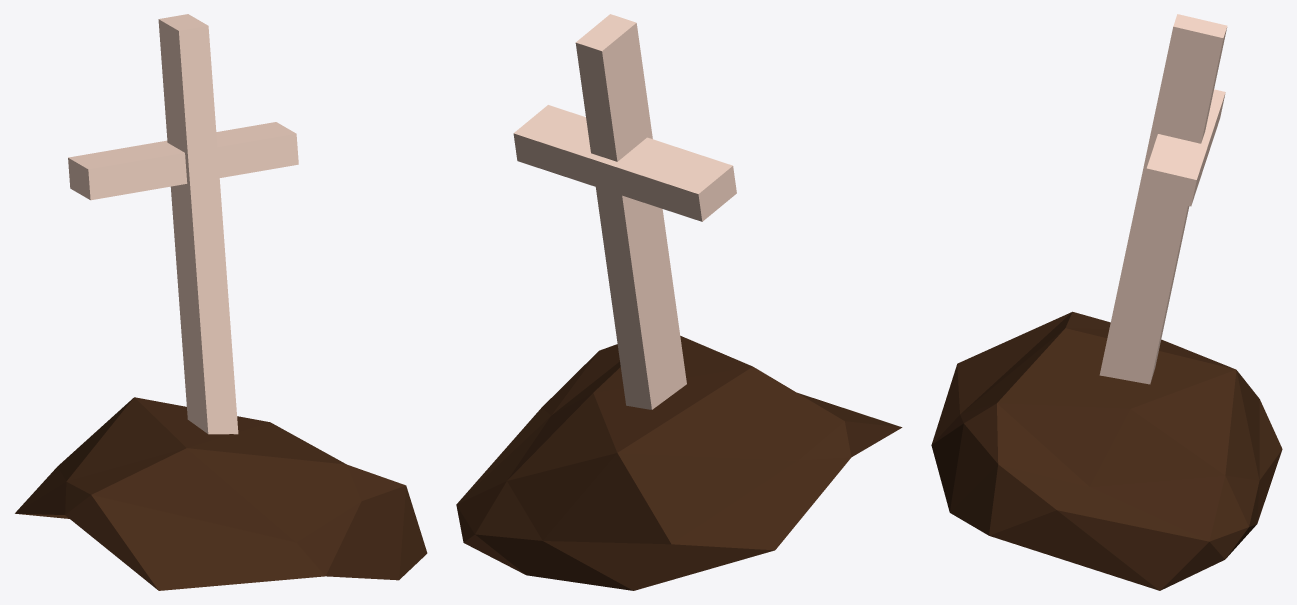
The model's file is cross1.fbx.
The picture shows the model from 3 angles, left to right: view 1: azimuth 30°, elevation 25°; view 2: azimuth 150°, elevation 25°; view 3: azimuth 270°, elevation 25°; orthographic projection. The views are drawn at different scales.
Visible parts, largest first — view 1: cross; view 2: cross; view 3: cross.
Part boxes in pixels (<box>): cross: <box>15,14,427,590</box>; cross: <box>456,14,902,590</box>; cross: <box>931,14,1282,590</box>.
Bounding box in the file's own units: 165 × 257 × 164.
